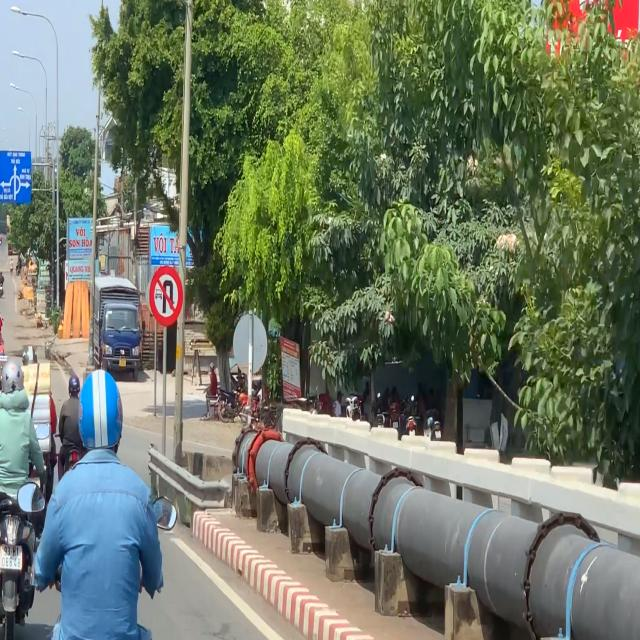Cam quay dau xe: (150, 264, 184, 325)
